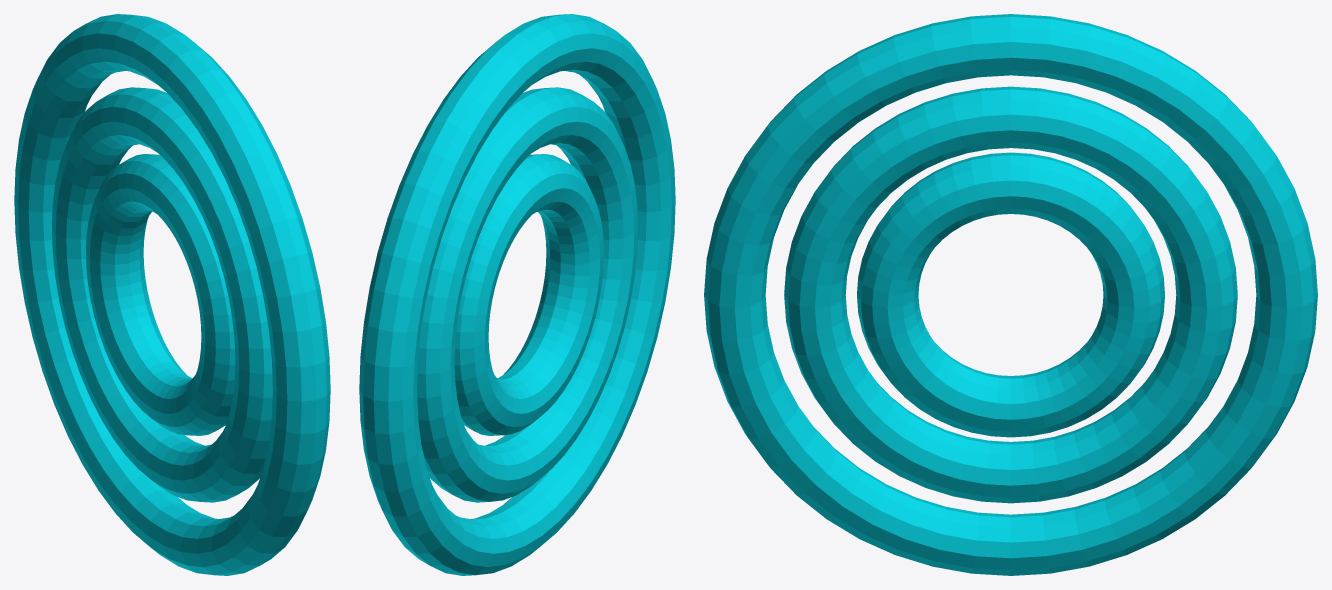
Rendered from WaveRings.fbx.
3 renders of one model, left to right at view 1: azimuth 30°, elevation 25°; view 2: azimuth 150°, elevation 25°; view 3: azimuth 270°, elevation 25°, orthographic. The views are drawn at different scales.
Visible parts, largest first — view 1: Ring3, Ring2, Ring1; view 2: Ring3, Ring2, Ring1; view 3: Ring3, Ring2, Ring1.
Boxes of the visible parts, x1,y1,x2,y2 form: Ring3: (14, 14, 330, 575); Ring2: (52, 87, 272, 502); Ring1: (86, 154, 235, 435); Ring3: (359, 14, 675, 575); Ring2: (417, 87, 637, 502); Ring1: (454, 154, 603, 435); Ring3: (704, 14, 1317, 575); Ring2: (784, 86, 1237, 503); Ring1: (857, 152, 1164, 437).
Size of the model in its own units: 99.6 by 99.6 by 10.
